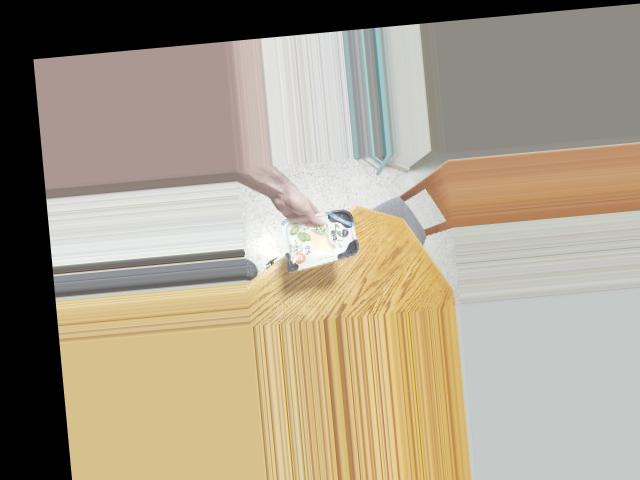cheese: (286, 208, 356, 267)
